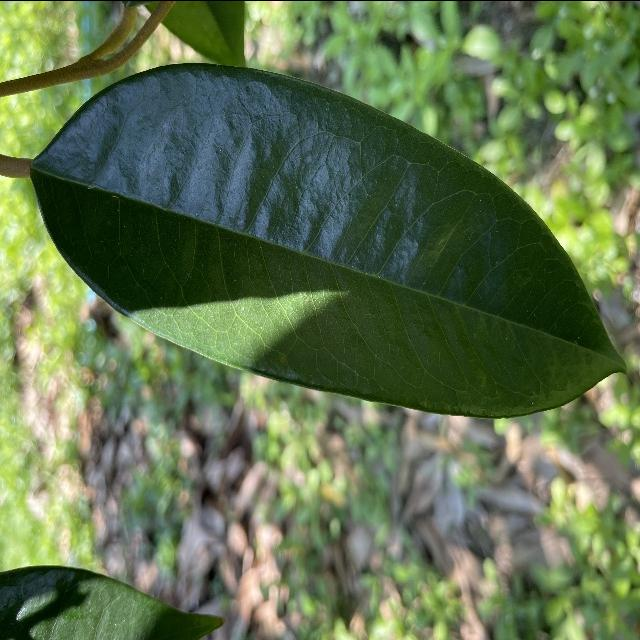No Disease: (17, 45, 629, 430)
